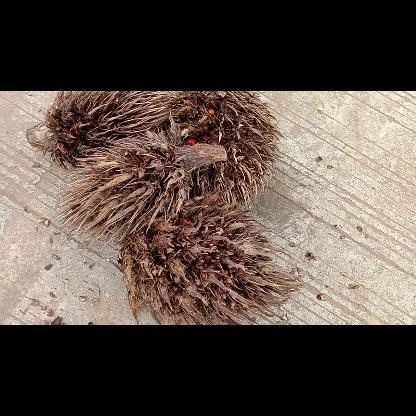Janjang kosong: (57, 106, 227, 233), (118, 210, 302, 324), (24, 90, 190, 168), (186, 90, 284, 208)
